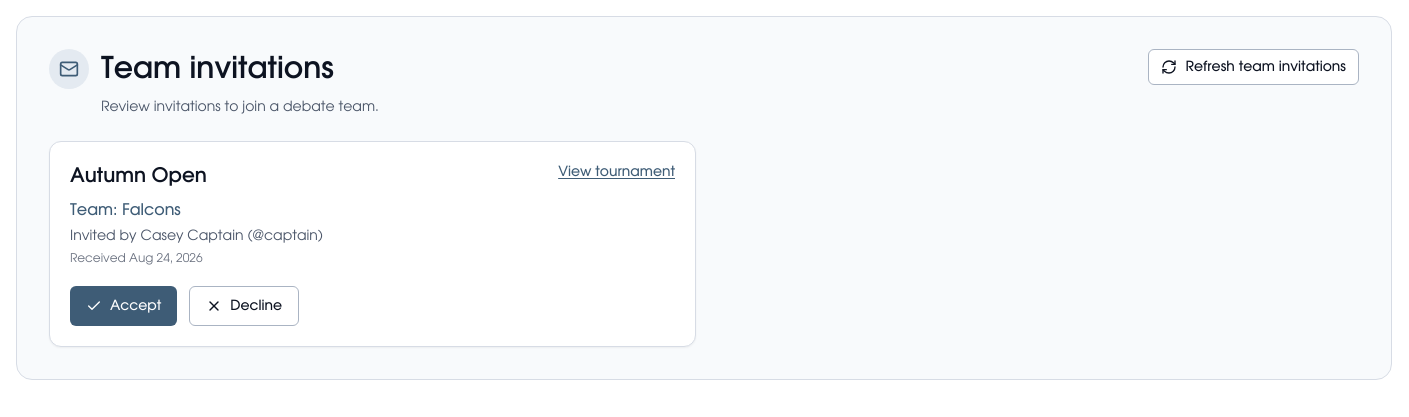
Test: ParticipantInvitationInbox › declines an invitation and refreshes the inbox
This screenshot has width=1409, height=417.
Click the button with aria-label "Decline invitation to Falcons".
click(244, 306)  # box x1=189 y1=286 x2=299 y2=326
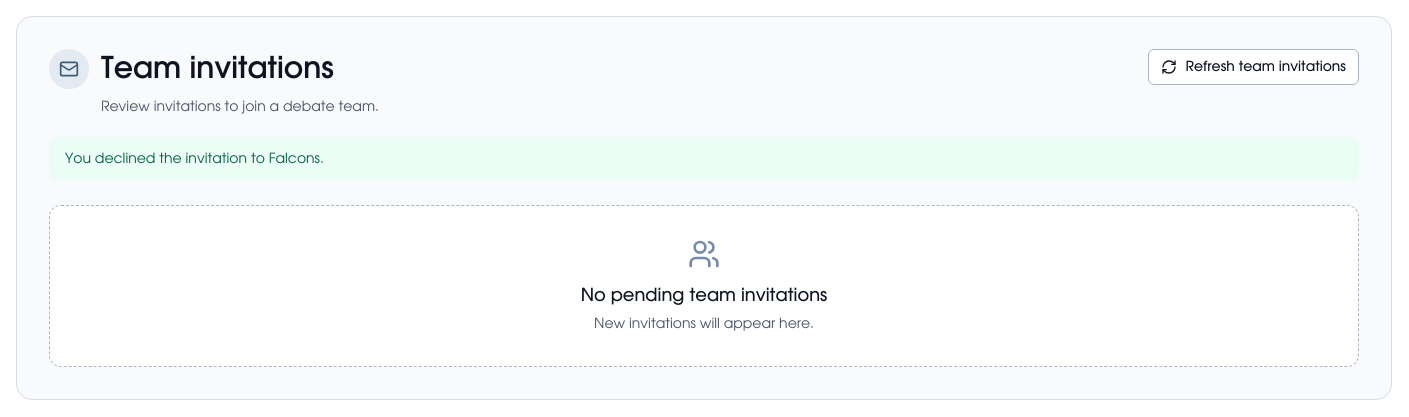
Expected: the text "You declined the invitation to Falcons." is shown, x1=49 y1=137 x2=1359 y2=181
Expected: the heading "No pending team invitations" is shown, x1=581 y1=287 x2=827 y2=305
